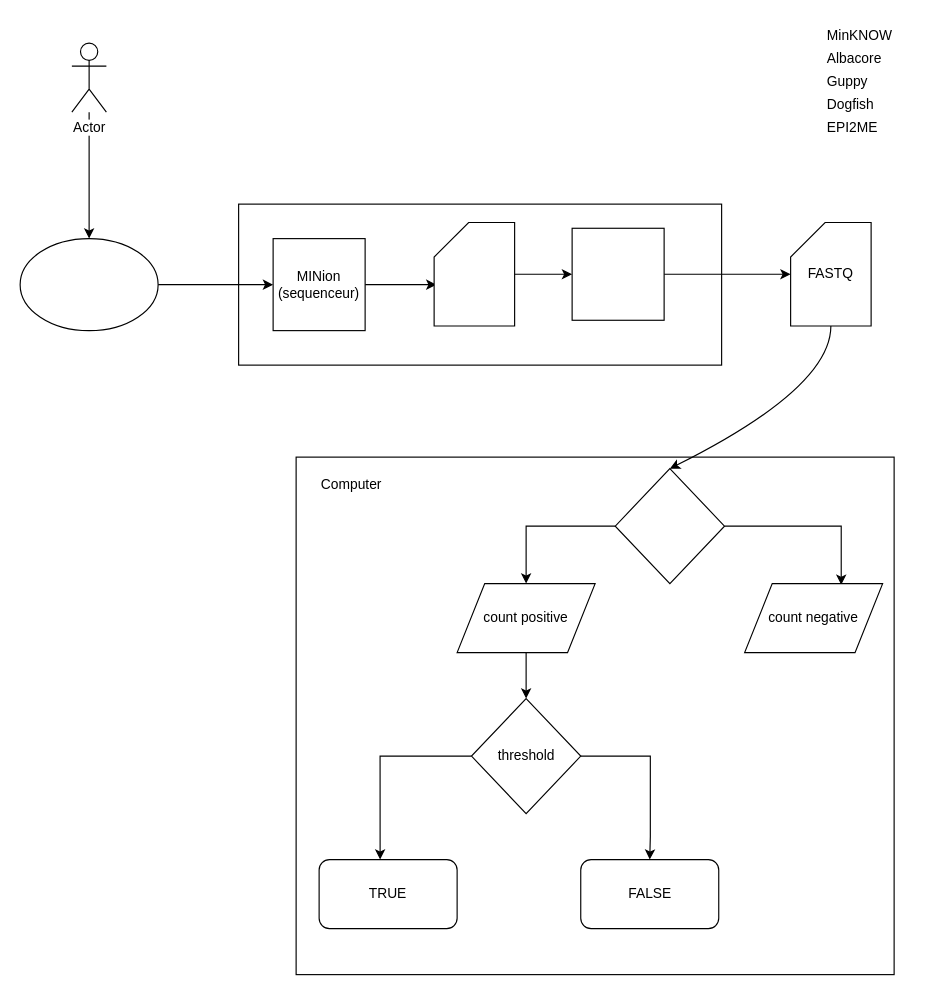
Some shapes in this 937 by 995 pixel diagram are drawn without their labels. Here are the shapes that lost their labels. From the top down, the box of each, then its label:
(19, 237, 158, 331): Extract ARN ~2h
(433, 221, 515, 326): FASTE
(571, 227, 664, 320): MINIT (Analyseur)
(614, 467, 724, 584): deep learning model
